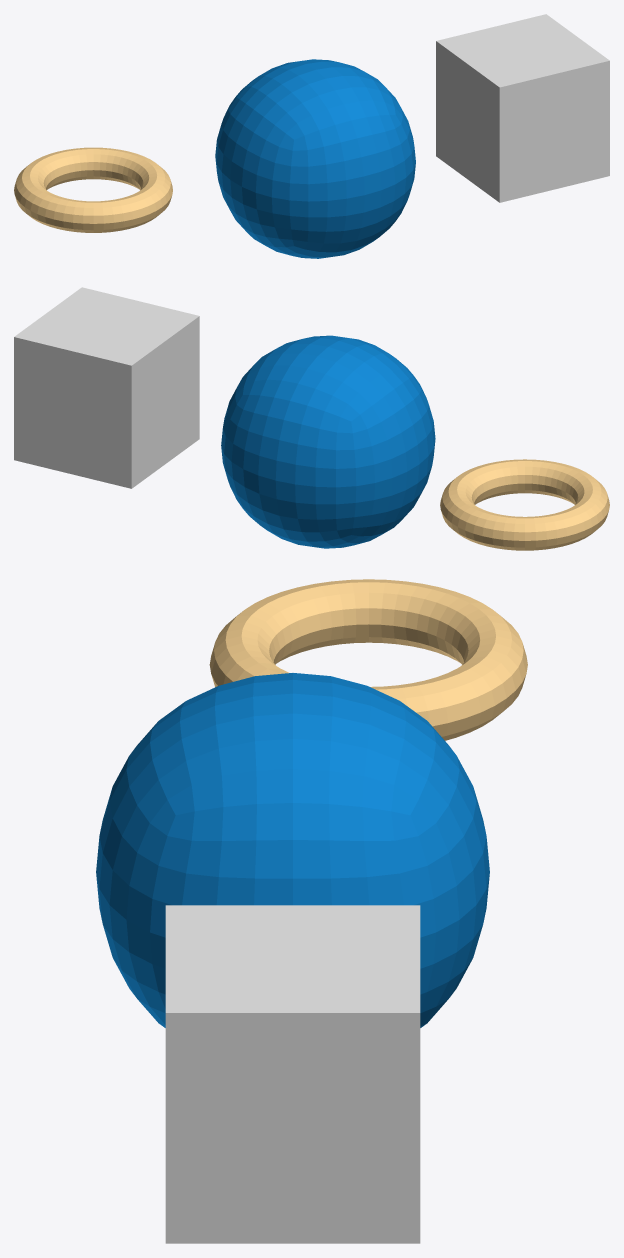
File: materials.fbx
The picture shows the model from 3 angles, top to bottom: view 1: azimuth 30°, elevation 25°; view 2: azimuth 150°, elevation 25°; view 3: azimuth 270°, elevation 25°; orthographic projection. The views are drawn at different scales.
Visible parts, largest first — view 1: Cube, Cube.001, Torus; view 2: Cube, Cube.001, Torus; view 3: Cube.001, Cube, Torus.
Boxes of the visible parts, x1,y1,x2,y2 form: Cube: (215,59,415,258); Cube.001: (436,14,609,202); Torus: (14,147,172,232); Cube: (221,335,435,548); Cube.001: (14,287,199,488); Torus: (440,459,609,550); Cube.001: (165,905,420,1243); Cube: (96,673,489,1027); Torus: (209,579,527,740).
Bounding box in the file's own units: 970 × 309 × 339.
